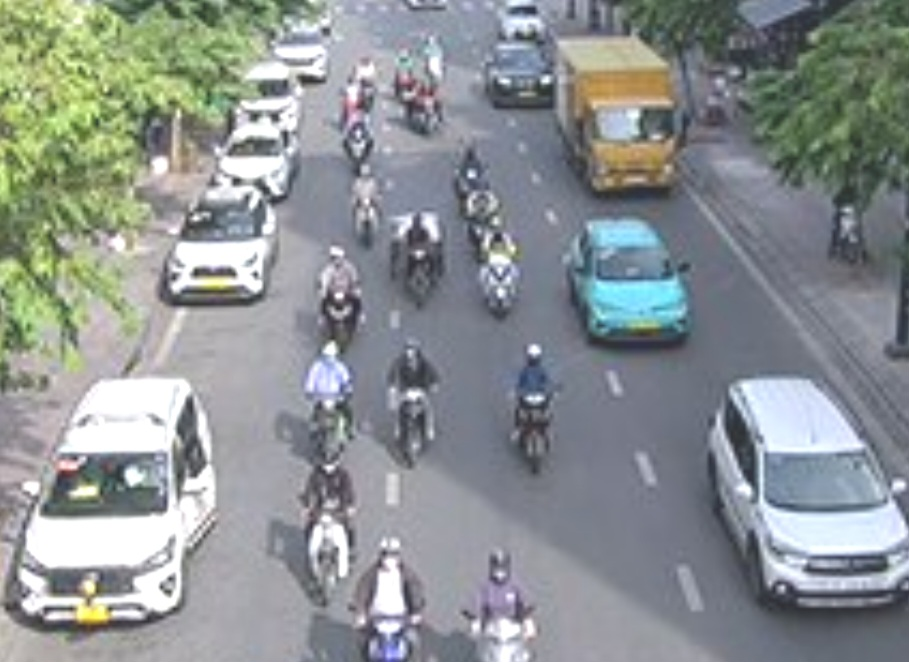car: (12, 375, 215, 636), (710, 370, 908, 610), (561, 220, 694, 346), (165, 183, 278, 310), (212, 124, 301, 196), (233, 62, 306, 130), (485, 43, 556, 111), (269, 23, 333, 83)
